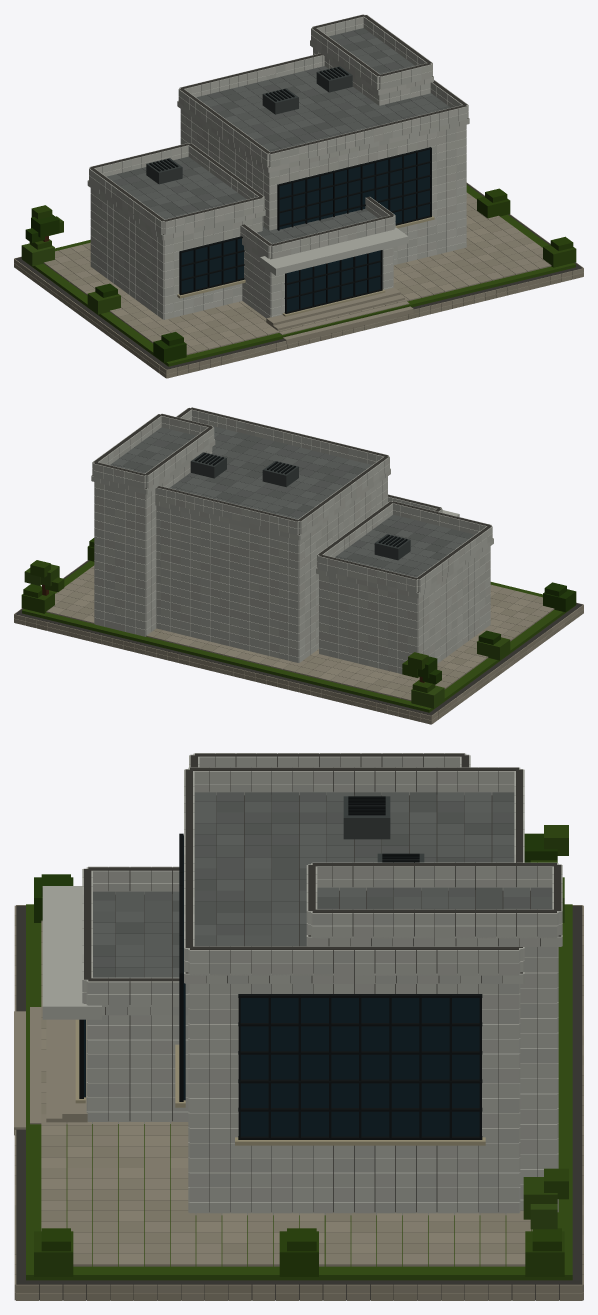
Rendered from SM_Mapa_060.fbx.
3 views of the same model, one above another, from view 1: azimuth 30°, elevation 25°; view 2: azimuth 150°, elevation 25°; view 3: azimuth 270°, elevation 25° (orthographic). The views are drawn at different scales.
Visible parts, largest first — view 1: SM_Mapa_060; view 2: SM_Mapa_060; view 3: SM_Mapa_060.
Boxes of the visible parts, x1,y1,x2,y2 form: SM_Mapa_060: (14, 14, 583, 378); SM_Mapa_060: (14, 407, 583, 724); SM_Mapa_060: (14, 753, 583, 1300).
Size of the model in its own units: 24 by 15.21 by 9.5.
